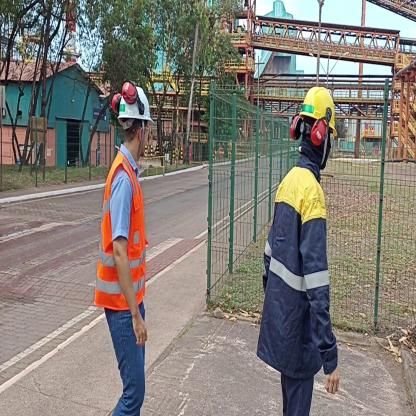Balaclava: (302, 119, 330, 172)
C_eletrica: (255, 169, 343, 376)
Capacete: (298, 79, 340, 130), (109, 76, 153, 123)
colete: (94, 154, 153, 310)
